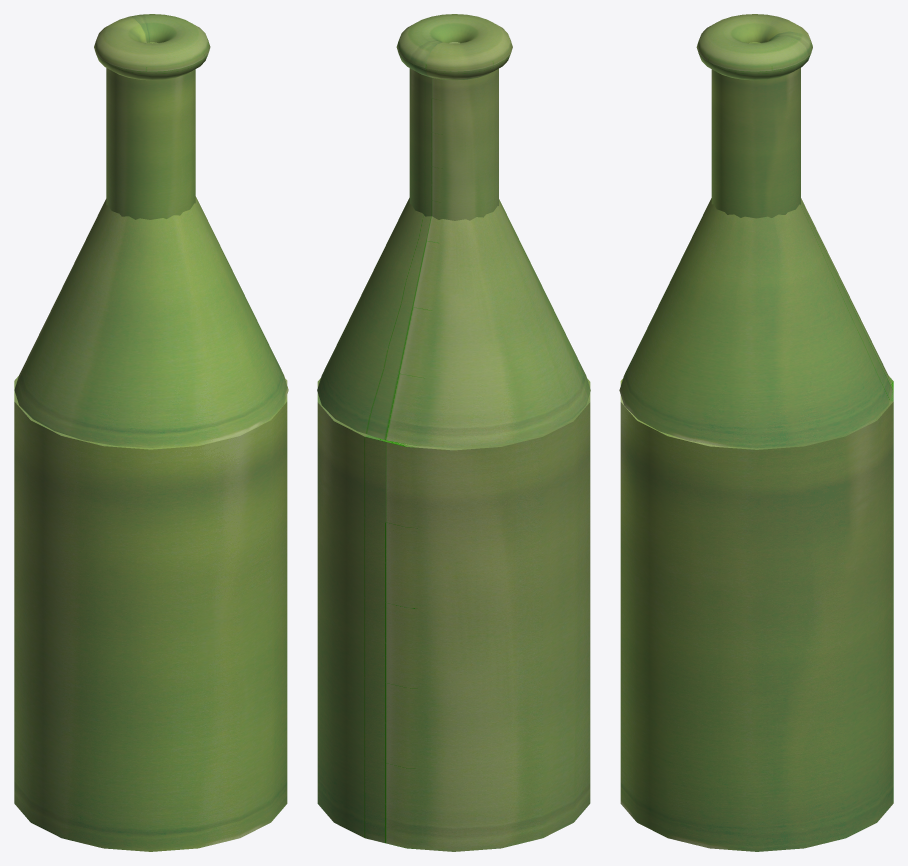
Rendered from bottle.FBX.
3 views of the same model, side by side, from view 1: azimuth 30°, elevation 25°; view 2: azimuth 150°, elevation 25°; view 3: azimuth 270°, elevation 25° (orthographic).
Visible parts, largest first — view 1: Cylinder001, Cone001, Cylinder002, Torus001; view 2: Cylinder001, Cone001, Cylinder002, Torus001; view 3: Cylinder001, Cone001, Cylinder002, Torus001.
Part boxes in pixels (box(x1,y1,x2,y2)): Cylinder001: box(14, 376, 287, 851); Cone001: box(14, 196, 288, 447); Cylinder002: box(106, 42, 195, 219); Torus001: box(94, 14, 210, 80); Cylinder001: box(317, 378, 590, 851); Cone001: box(317, 198, 590, 448); Cylinder002: box(409, 42, 498, 220); Torus001: box(396, 14, 512, 80); Cylinder001: box(620, 376, 893, 851); Cone001: box(619, 198, 892, 448); Cylinder002: box(711, 42, 800, 218); Torus001: box(696, 14, 812, 80).
Size of the model in its own units: 26.08 by 79.08 by 25.79.
